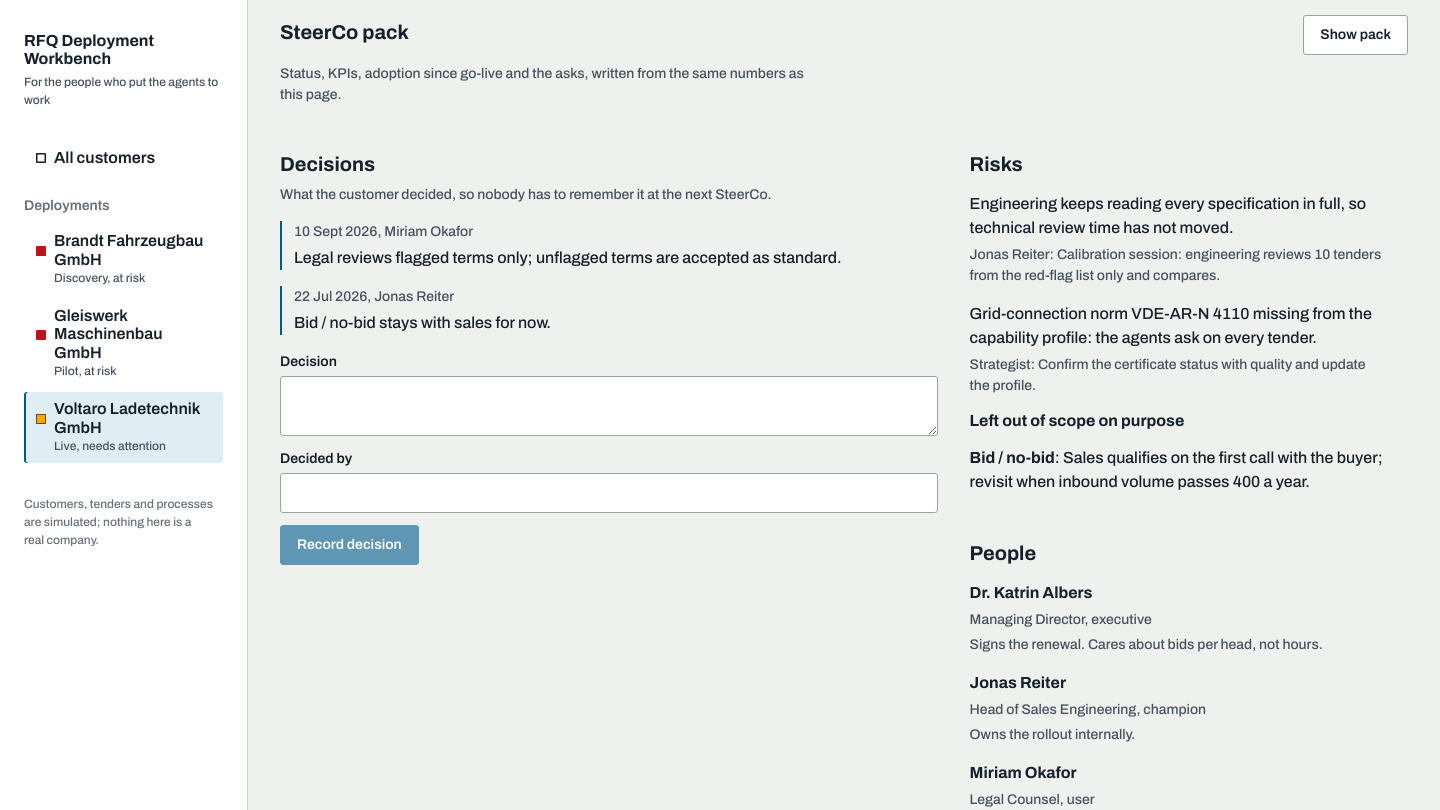
Scenario: customer overview › records a decision and shows it
(page scrolled)
Type "Engineering pilots red flags on 10 tenders." into the text box labelled "Decision" at (609, 406), box 280,376 -> 938,436
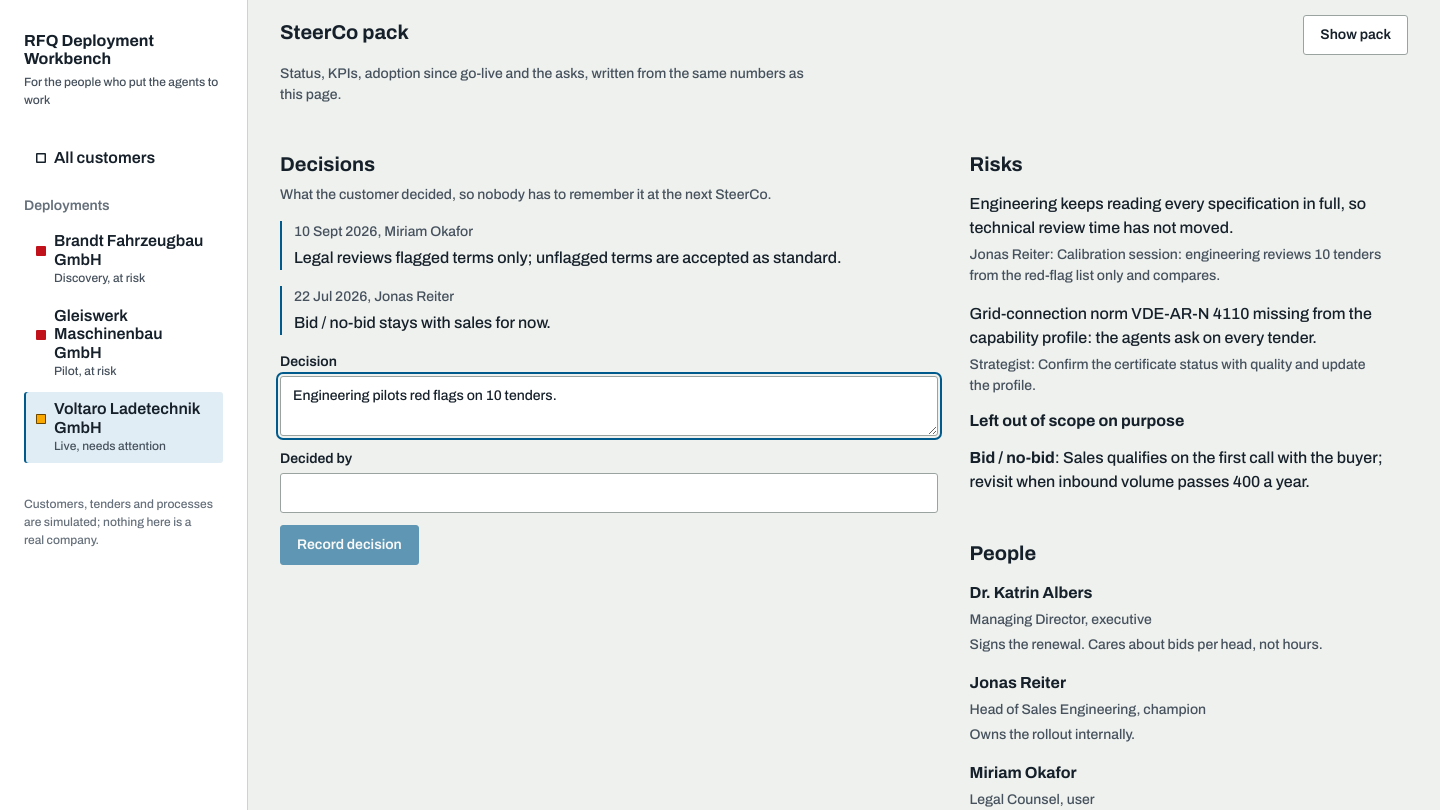
Type "Jonas Reiter" into the field labelled "Decided by" at (609, 493), box 280,473 -> 938,513
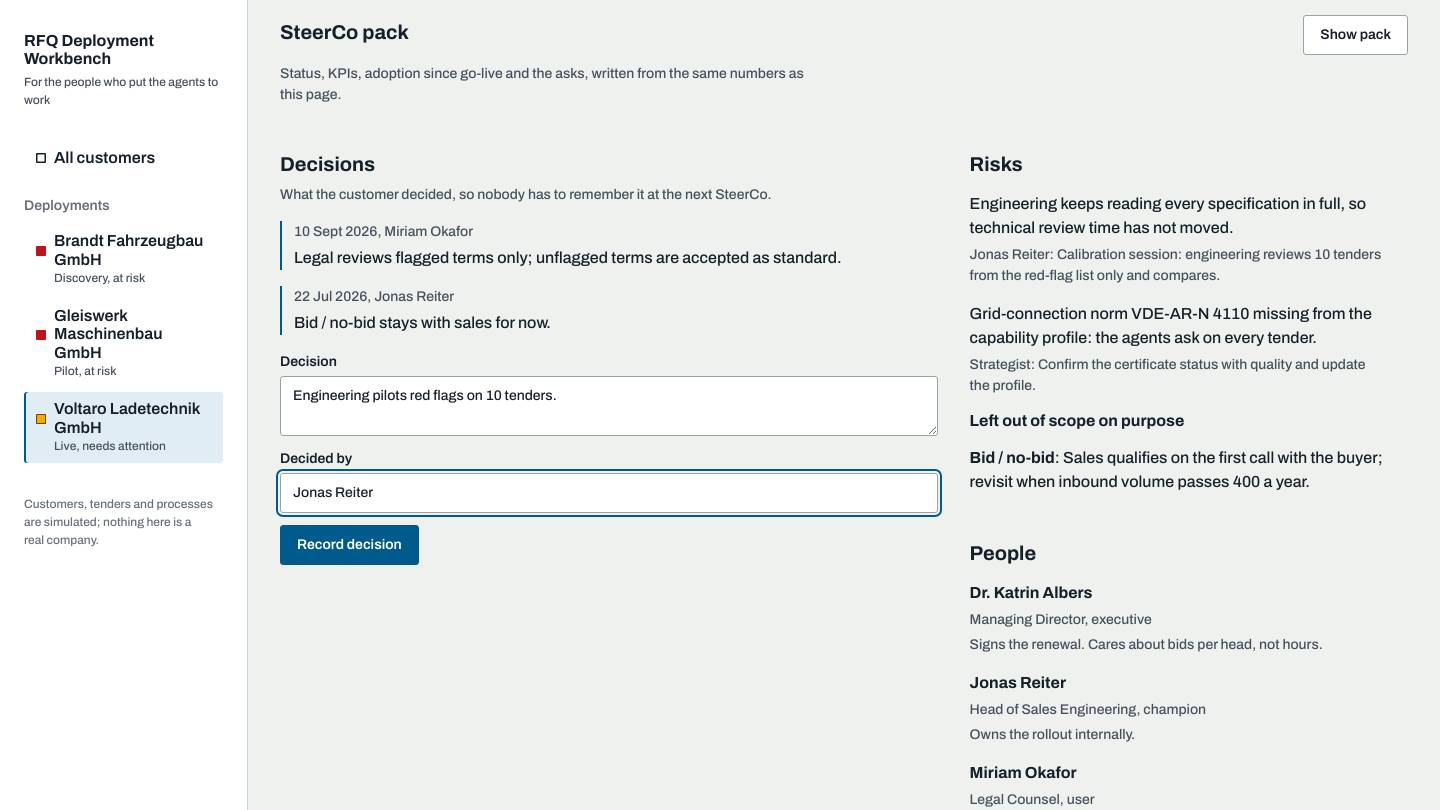
Click the button "Record decision" at (349, 545), box 280,525 -> 419,565
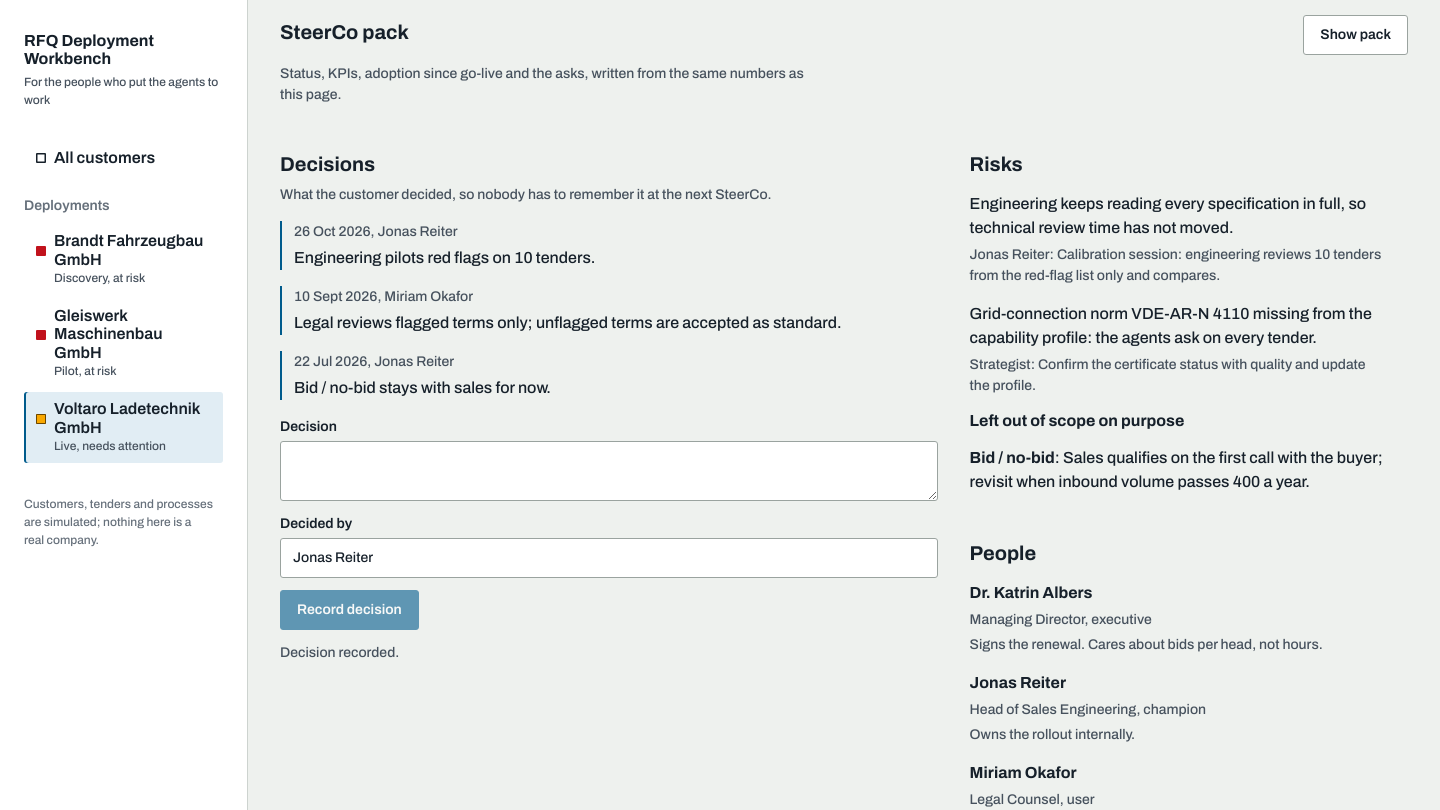
Expected: the text "Engineering pilots red flags on 10 tenders." is shown, 294,249 -> 595,266
